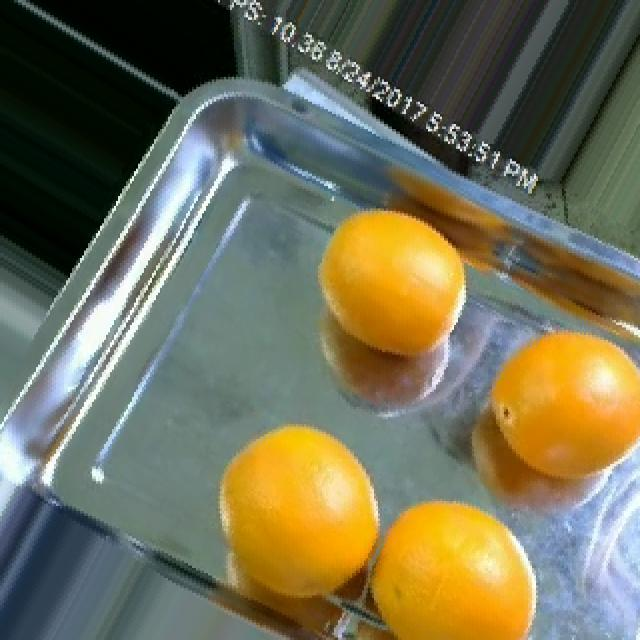Fruit: (354, 479, 566, 640)
